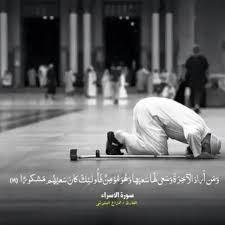sujud: (104, 96, 222, 159)
